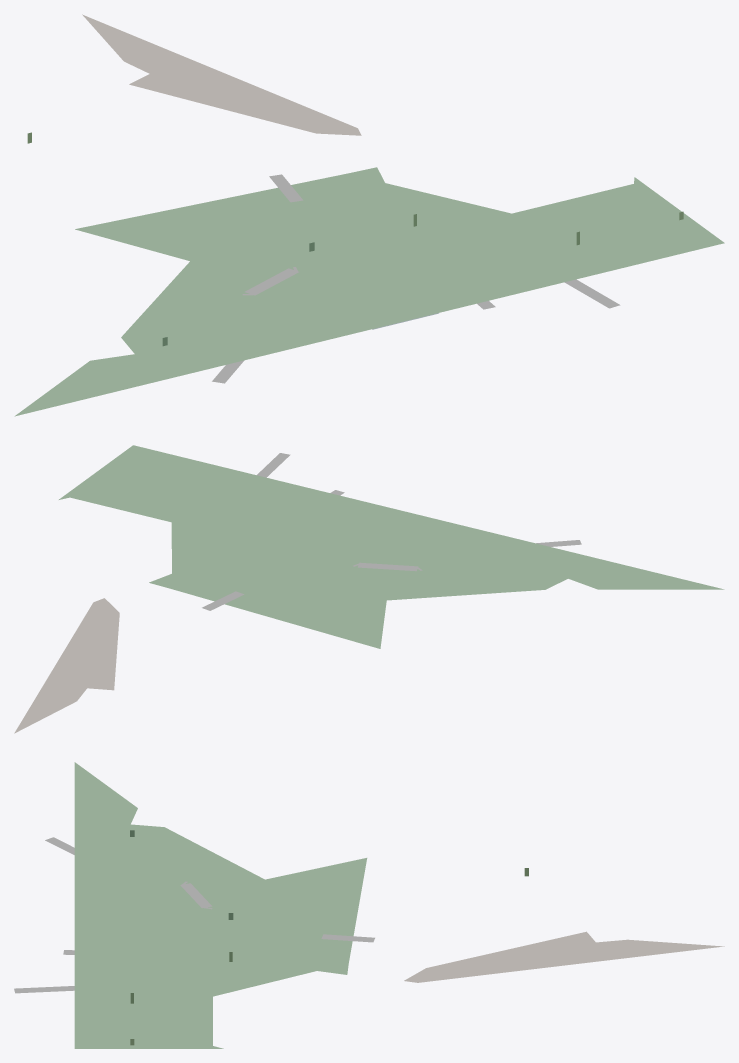
3 views of the same model, one above another, from view 1: azimuth 30°, elevation 25°; view 2: azimuth 150°, elevation 25°; view 3: azimuth 270°, elevation 25° (orthographic). The views are drawn at different scales.
Size of the model in its own units: 413 by 7.99 by 433.
